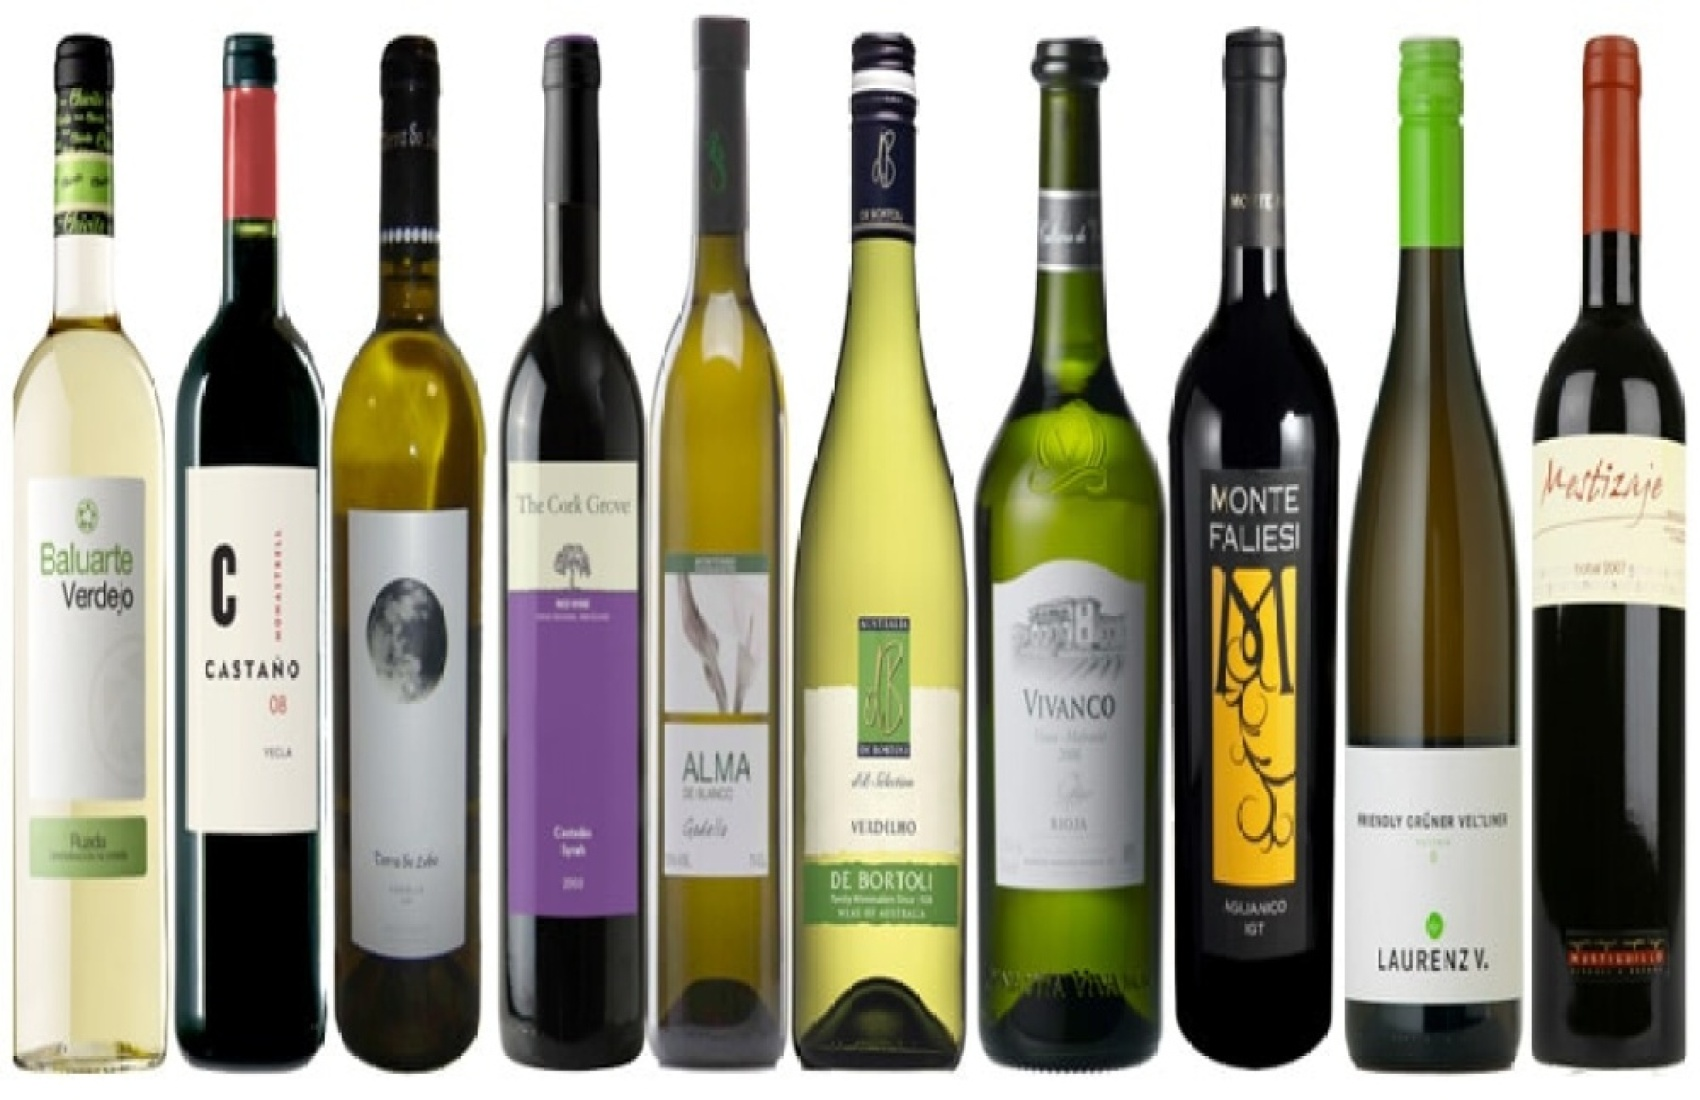wine: (973, 78, 1146, 1073), (1347, 57, 1520, 1052), (794, 64, 966, 1059), (1533, 55, 1688, 1063), (499, 53, 653, 1062), (19, 64, 172, 1073), (331, 55, 484, 1062), (181, 55, 335, 1062)
